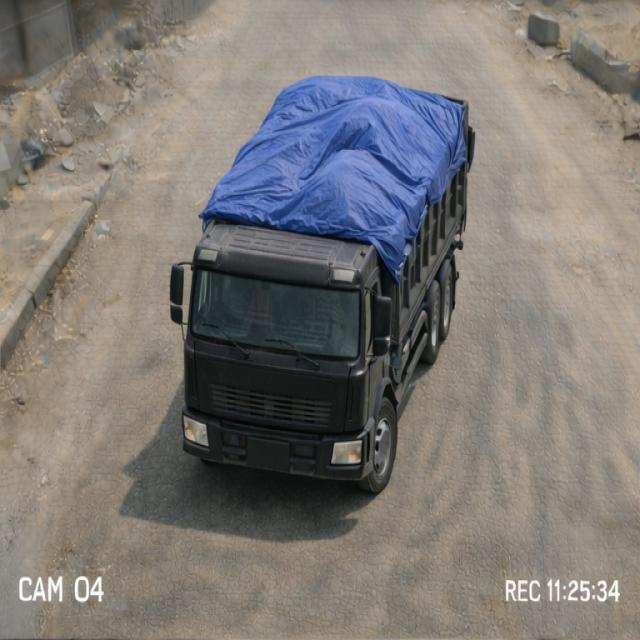Box: (203, 72, 473, 220)
Truck: (167, 54, 501, 488)
